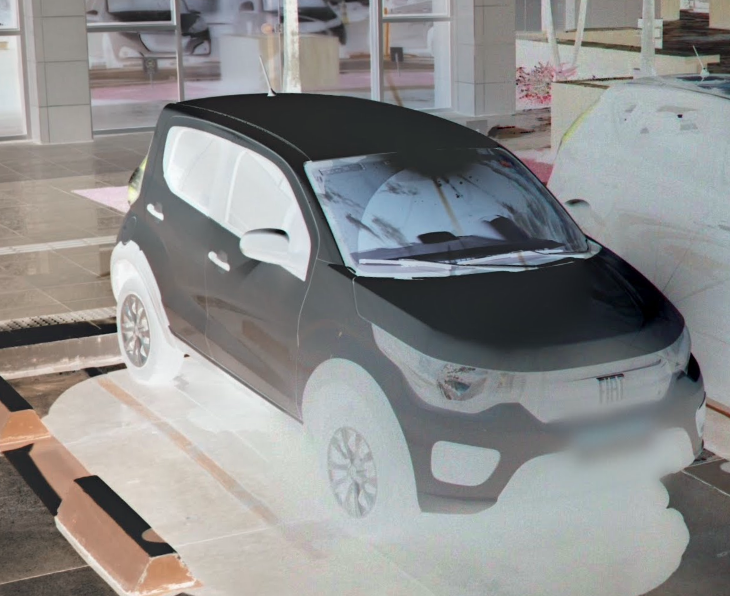car: (107, 86, 708, 548)
